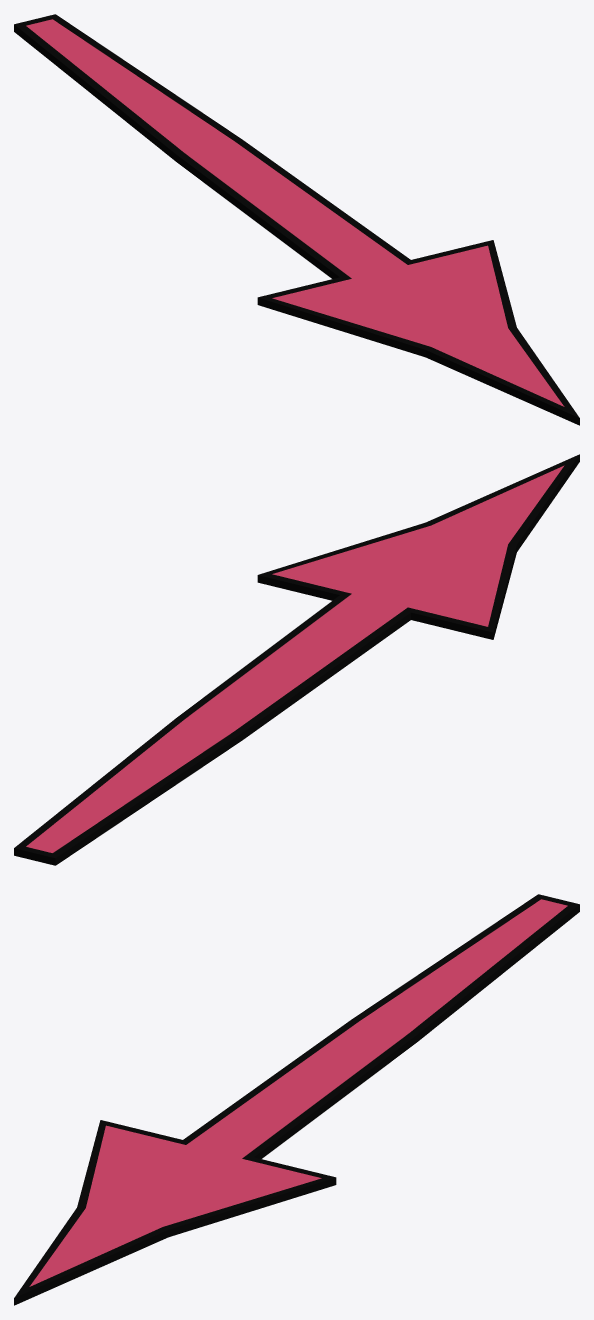
The model's file is Golf Arrow.fbx.
3 renders of one model, top to bottom at view 1: azimuth 30°, elevation 25°; view 2: azimuth 150°, elevation 25°; view 3: azimuth 330°, elevation 25°, orthographic.
Parts seen in each view (by area): view 1: Golf Arrow; view 2: Golf Arrow; view 3: Golf Arrow.
Boxes of the visible parts, bbox=[...] form: Golf Arrow: bbox=[14, 14, 579, 425]; Golf Arrow: bbox=[14, 454, 579, 865]; Golf Arrow: bbox=[14, 894, 579, 1305].
Size of the model in its own units: 0.3655 by 0.0111 by 1.46.
